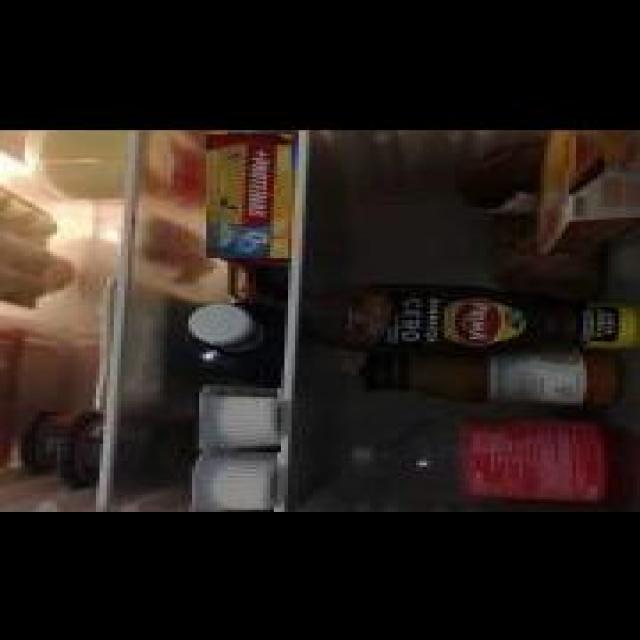yogurt: (208, 132, 293, 256), (195, 386, 281, 450), (192, 452, 274, 512), (62, 403, 101, 489)
